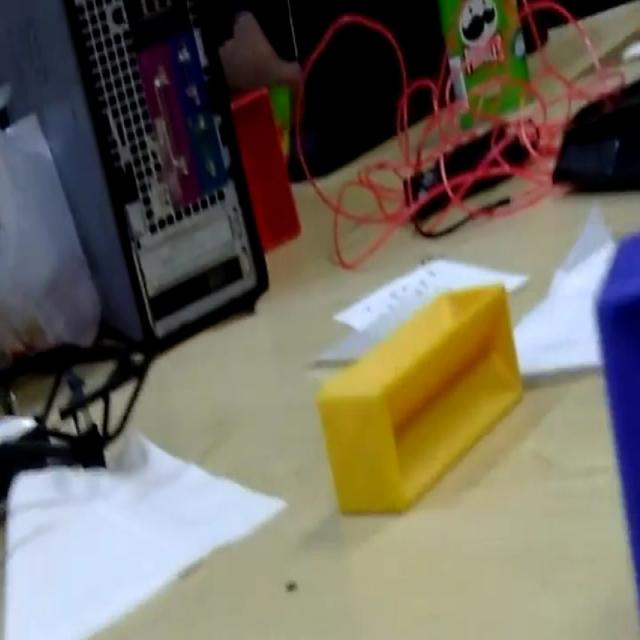red_block: (228, 83, 302, 252)
yellow_block: (315, 280, 523, 515)
